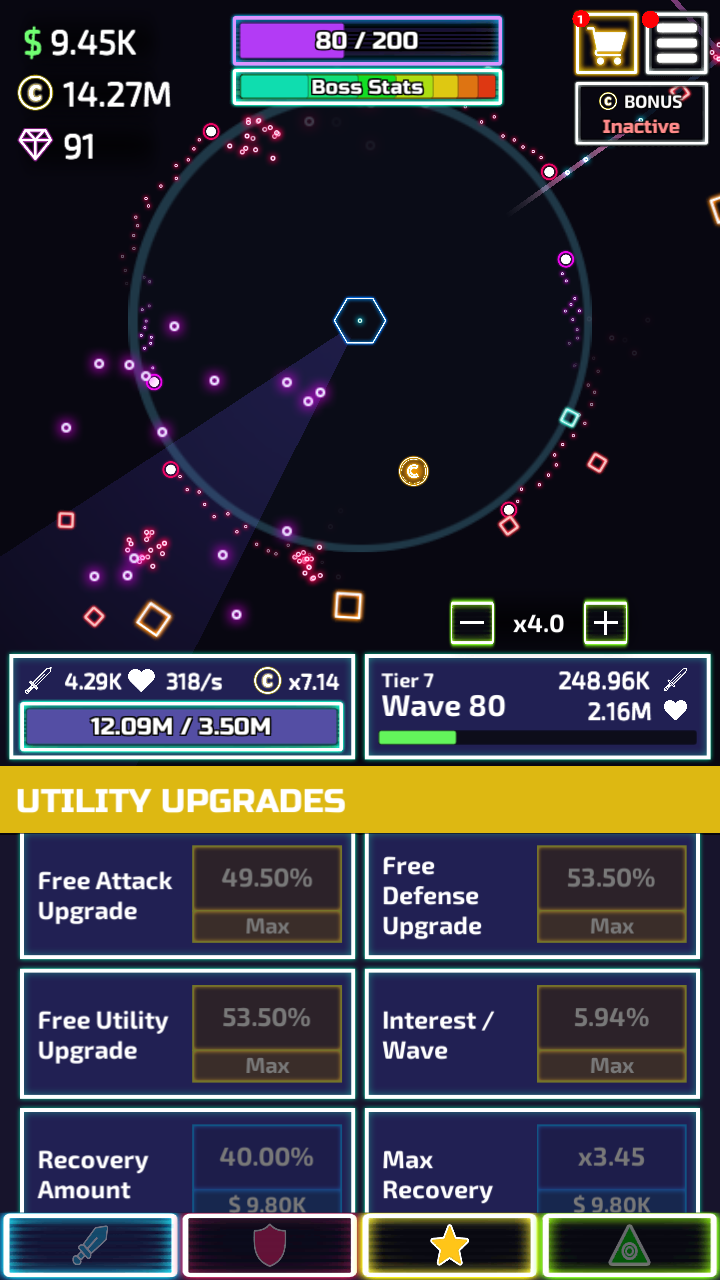B_Menu_Action_Required: (638, 5, 705, 73)
B_Menu_Closed: (573, 8, 707, 74)
B_Slot: (18, 969, 354, 1093), (366, 970, 698, 1091), (363, 833, 694, 953), (18, 836, 358, 951), (20, 1107, 353, 1209), (363, 1111, 694, 1212)
B_Slot_Button: (189, 987, 343, 1083), (533, 847, 687, 942), (190, 847, 342, 941), (188, 1124, 344, 1215), (533, 989, 687, 1081), (534, 1125, 690, 1214)
B_Slot_Label: (369, 847, 496, 944), (23, 1001, 176, 1071), (21, 861, 178, 929), (368, 1141, 512, 1208), (21, 1141, 166, 1206), (369, 1002, 508, 1067)
B_Slot_Maxed: (187, 981, 340, 1085), (188, 844, 344, 944), (532, 983, 684, 1085), (532, 846, 681, 945)
B_Slot_Price: (215, 1187, 317, 1215)
B_Slot_Value: (206, 857, 326, 895), (201, 1137, 324, 1174), (548, 861, 666, 897), (204, 999, 325, 1034), (552, 999, 665, 1036), (556, 1139, 659, 1174)
B_Tab_Utility: (0, 767, 720, 834)
